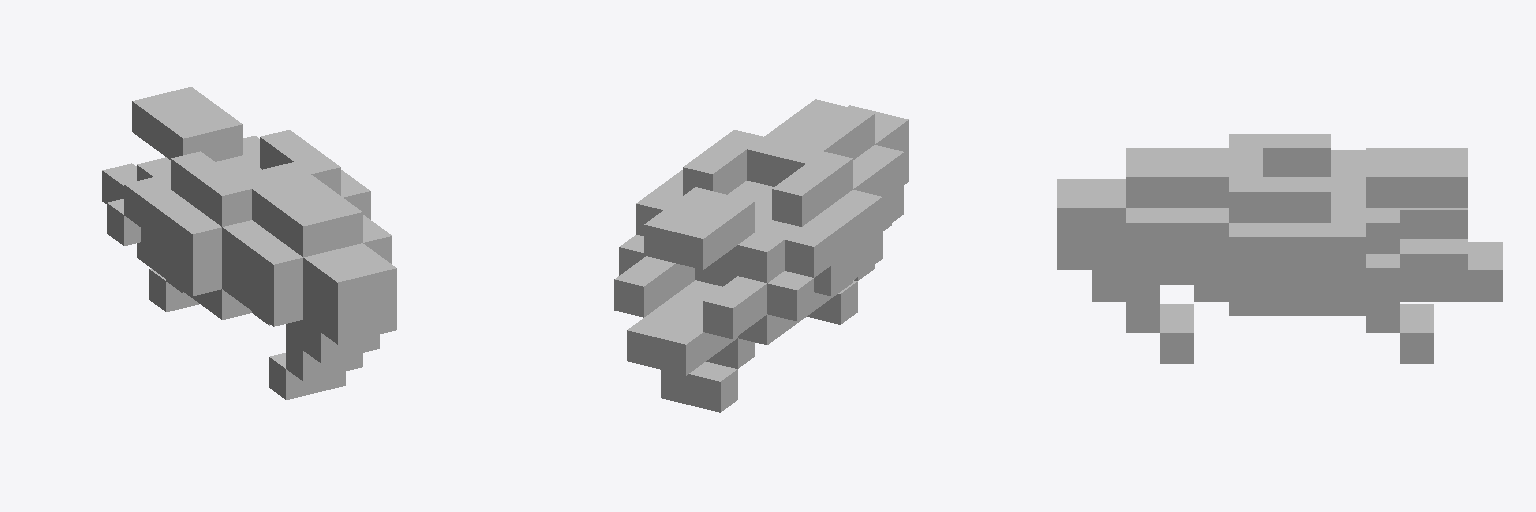
File: granade-launcher-1.obj
3 views of the same model, side by side, from view 1: azimuth 30°, elevation 25°; view 2: azimuth 150°, elevation 25°; view 3: azimuth 270°, elevation 25° (orthographic).
Visible parts, largest first — view 1: object 1; view 2: object 1; view 3: object 1.
Boxes of the visible parts, x1,y1,x2,y2 form: object 1: [102, 87, 396, 399]; object 1: [614, 99, 908, 412]; object 1: [1057, 134, 1502, 363].
Bounding box in the file's own units: 0.6 × 0.6 × 1.3.